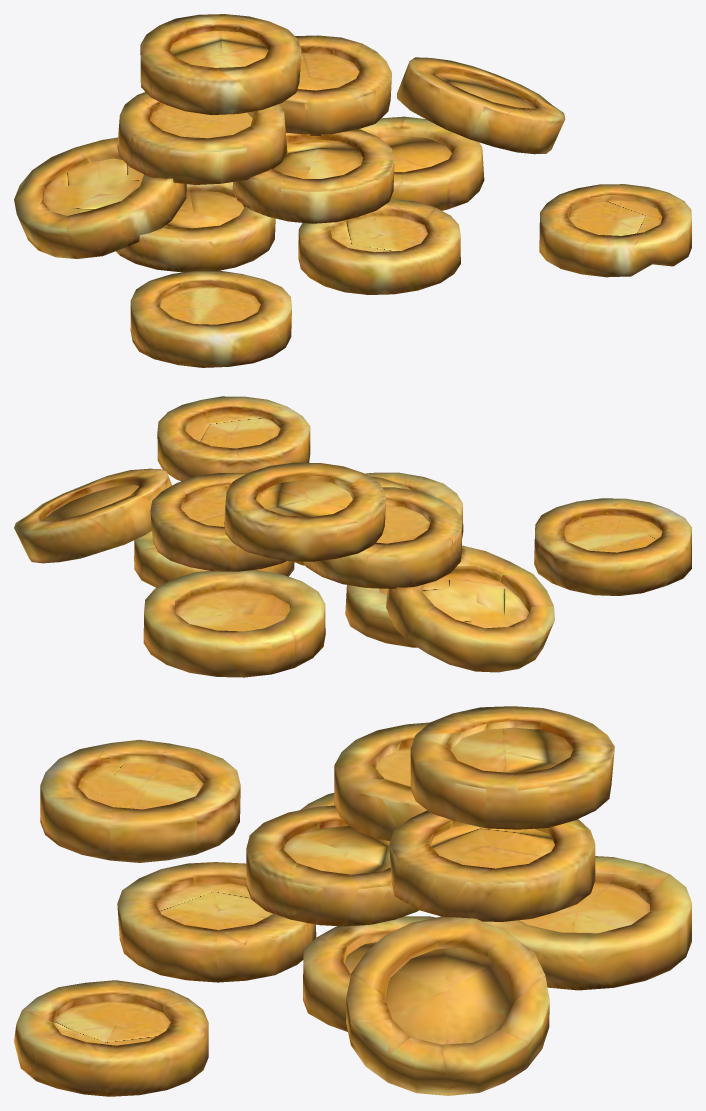
Rendered from item-coins.glb.
The picture shows the model from 3 angles, top to bottom: view 1: azimuth 30°, elevation 25°; view 2: azimuth 150°, elevation 25°; view 3: azimuth 270°, elevation 25°; orthographic projection. The views are drawn at different scales.
Size of the model in its own units: 0.9536 by 0.2373 by 0.8423.
1 material, 1 textured.
